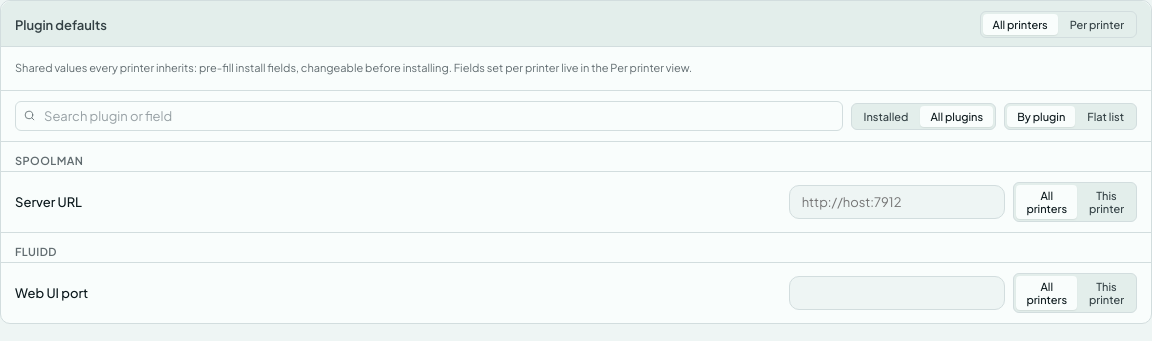
it: ScopedPluginDefaultsPane organization and search › narrows rows as the search query types, over plugin title and field label
Type "web ui" into the field with placeholder "Search plugin or field". click: (429, 116)
box: [15, 101, 843, 131]
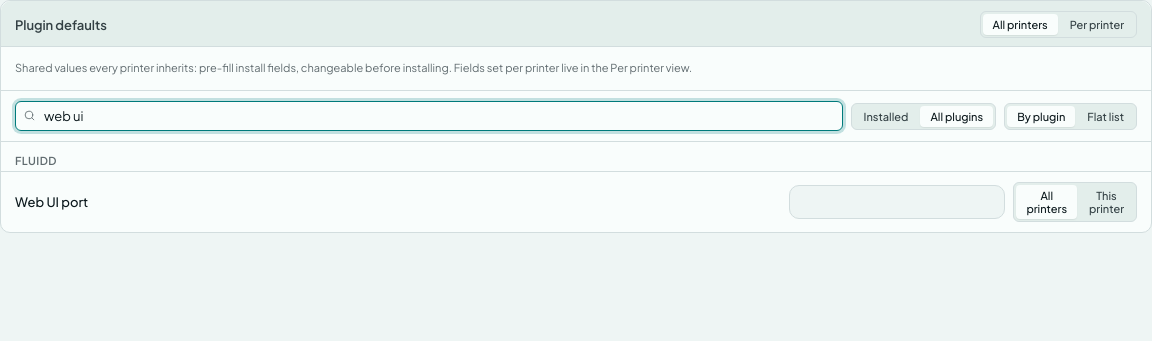
Expected: the text "Web UI port" is shown, [15, 194, 88, 210]
Now the text "Server URL" is gone
